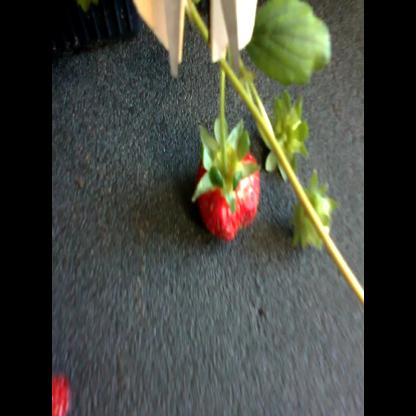ripe: (201, 140, 266, 242)
